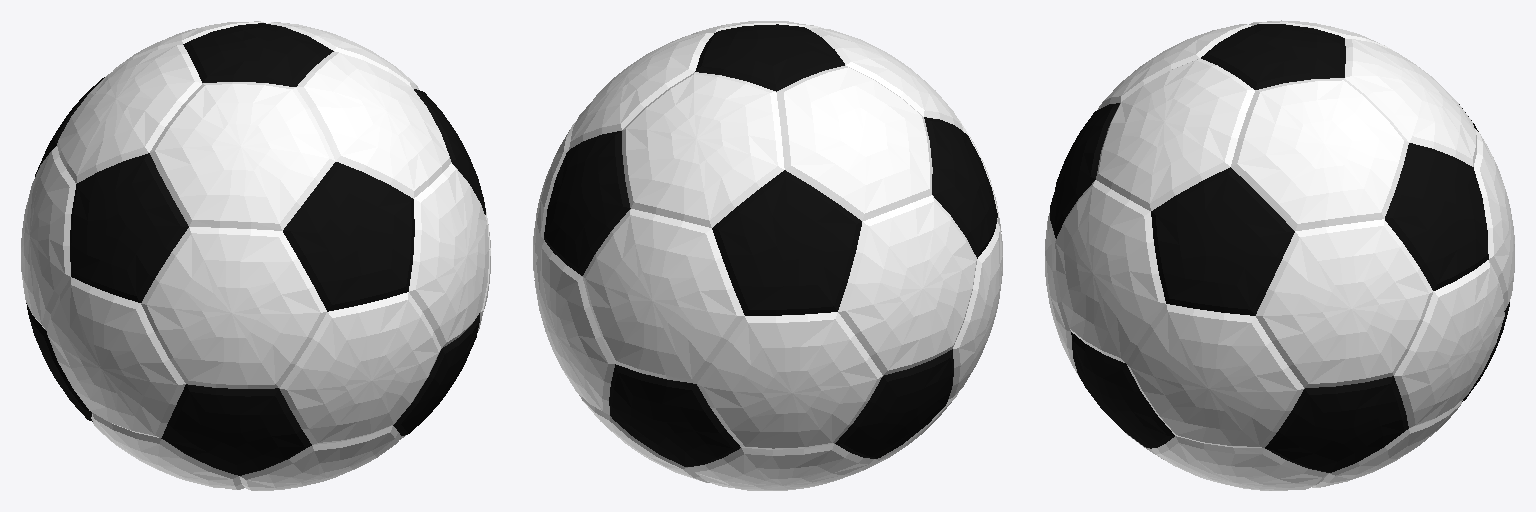
The model's file is soccerball2.obj.
3 views of the same model, side by side, from view 1: azimuth 30°, elevation 25°; view 2: azimuth 150°, elevation 25°; view 3: azimuth 270°, elevation 25° (orthographic).
Visible parts, largest first — view 1: white, black; view 2: white, black; view 3: white, black.
Boxes of the visible parts, box(x1,y1,x2,y2) form: white: box(21, 21, 490, 490); black: box(26, 23, 485, 475); white: box(533, 21, 1002, 490); black: box(544, 24, 997, 466); white: box(1045, 20, 1514, 490); black: box(1050, 24, 1509, 472).
Size of the model in its own units: 0.5993 by 0.6008 by 0.6011.